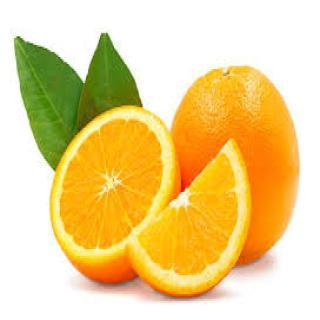orange: (163, 59, 309, 284), (54, 86, 172, 320), (128, 139, 260, 317)
